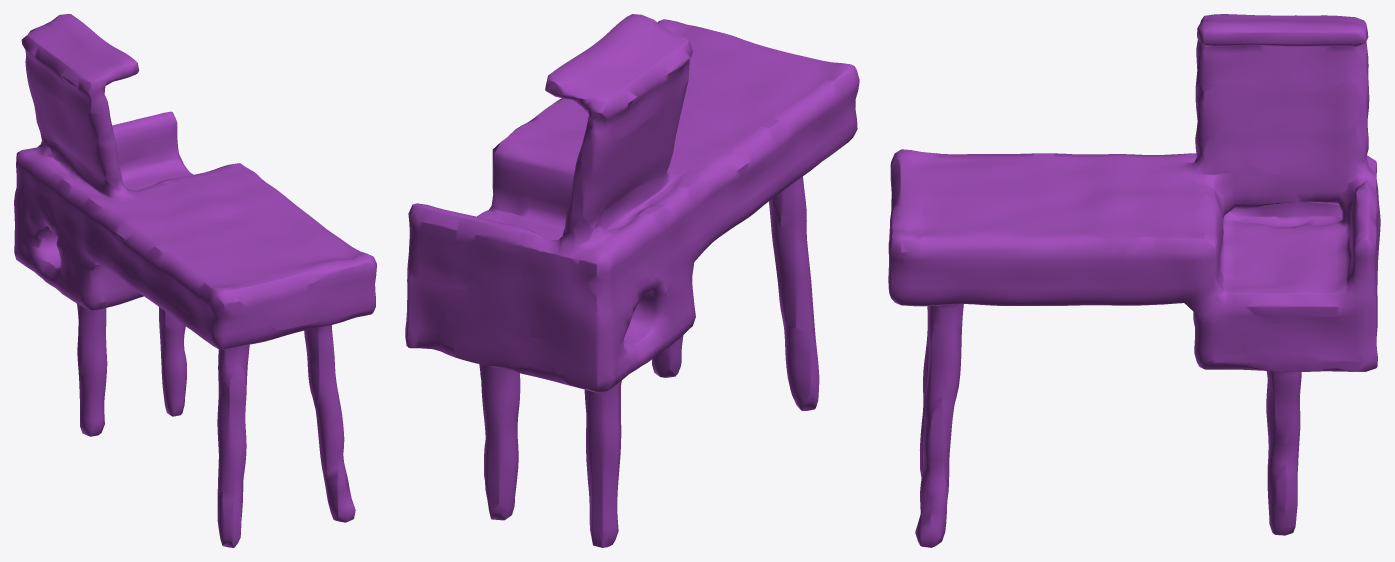
The model's file is table_11_1.obj.
3 views of the same model, side by side, from view 1: azimuth 30°, elevation 25°; view 2: azimuth 150°, elevation 25°; view 3: azimuth 270°, elevation 25° (orthographic). The views are drawn at different scales.
Size of the model in its own units: 0.3489 by 0.7974 by 0.7616.
